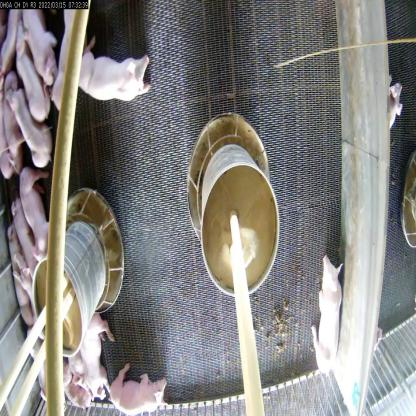Pig: (74, 40, 152, 106), (1, 60, 49, 166), (314, 246, 350, 382), (105, 352, 170, 415), (18, 0, 60, 84), (11, 22, 48, 115), (54, 5, 84, 108), (16, 171, 52, 255), (80, 312, 111, 406), (1, 229, 34, 305), (12, 206, 40, 281)
